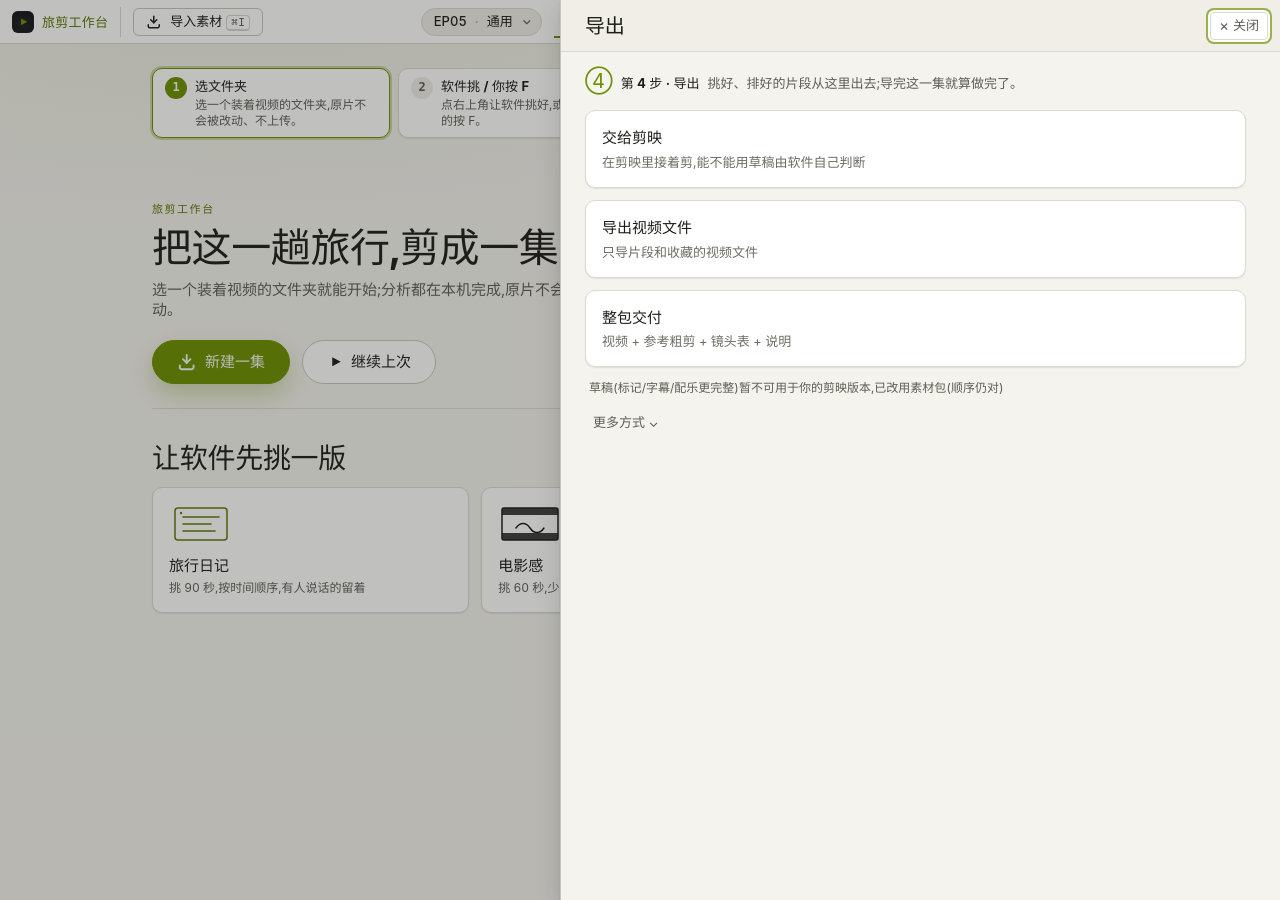
it: 交付抽屉 · 快速导出(R11 车道 E) › 第一次导出:没记过文件夹 → 弹一次文件夹面板(标题「选择导出文件夹」,不是交付包那句)→ quickExport(该目录) → 记进 ui.export.last_dir
This screenshot has width=1280, height=900.
Click the button "更多方式 ⌄".
click(626, 422)  # box [585,409,667,435]
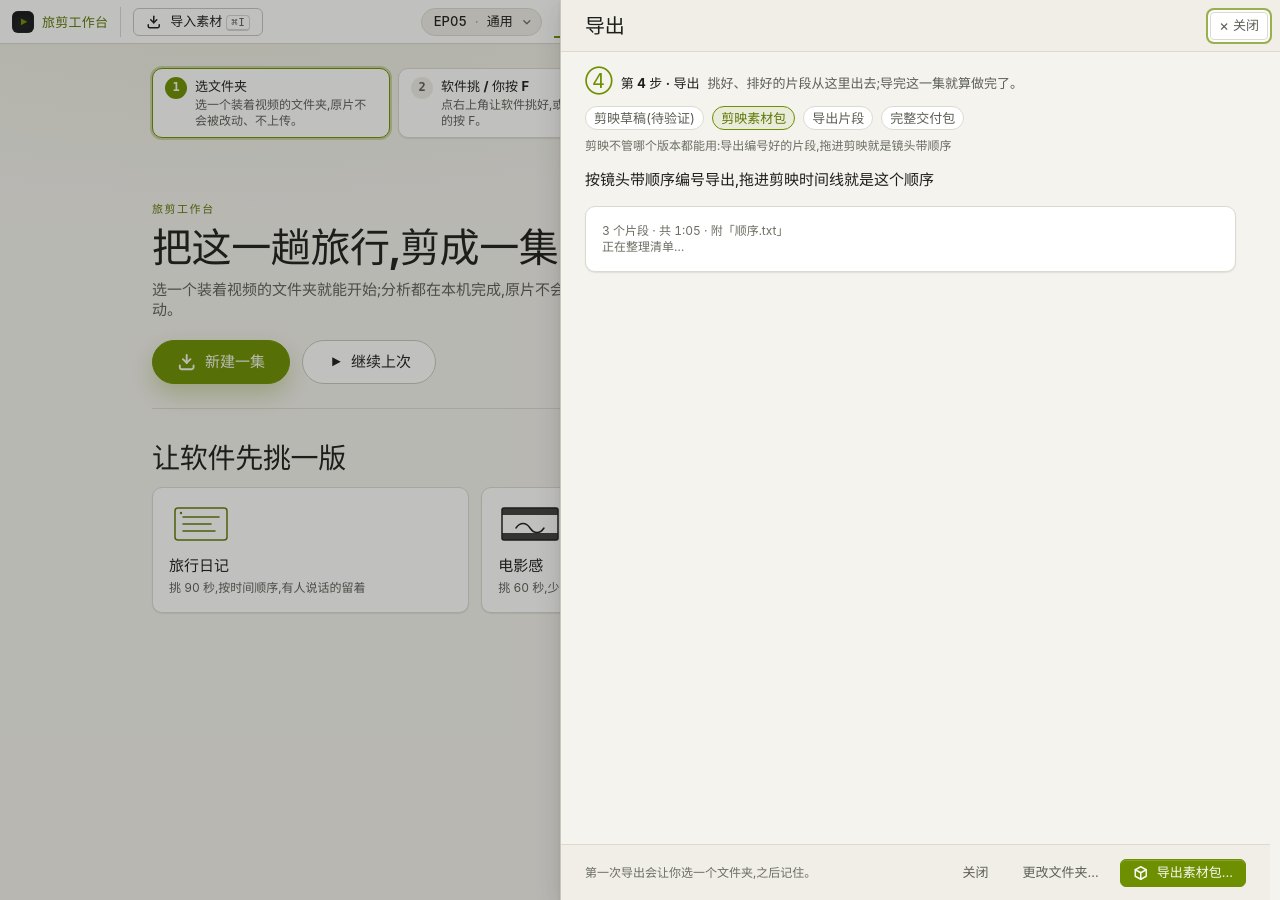
Click the button "导出片段".
click(838, 118)  # box [803,106,873,130]
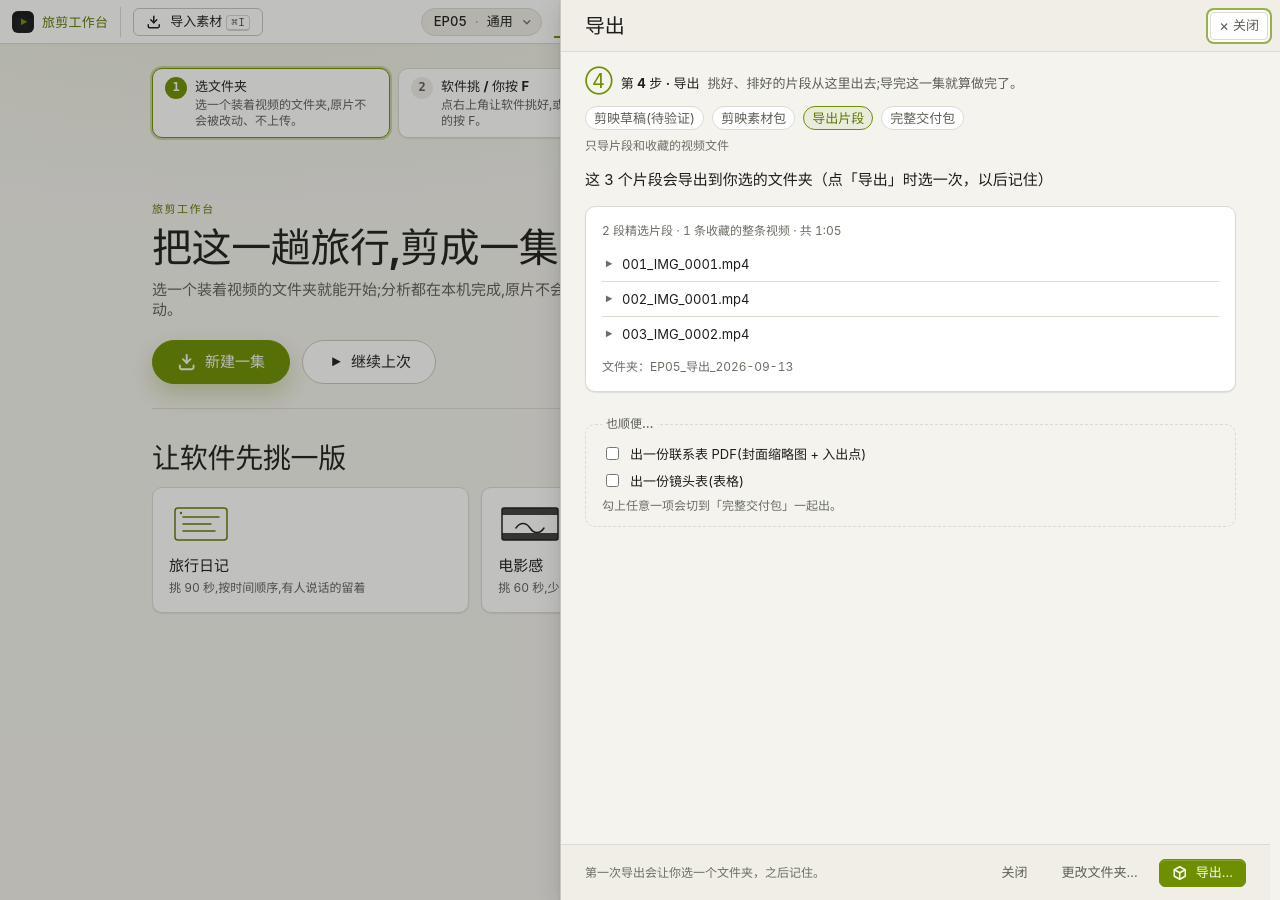
Expected: the text "001_IMG_0001.mp4" is shown, [622,255,750,273]
Click the button "导出…".
click(1202, 872)  # box [1159,858,1246,886]
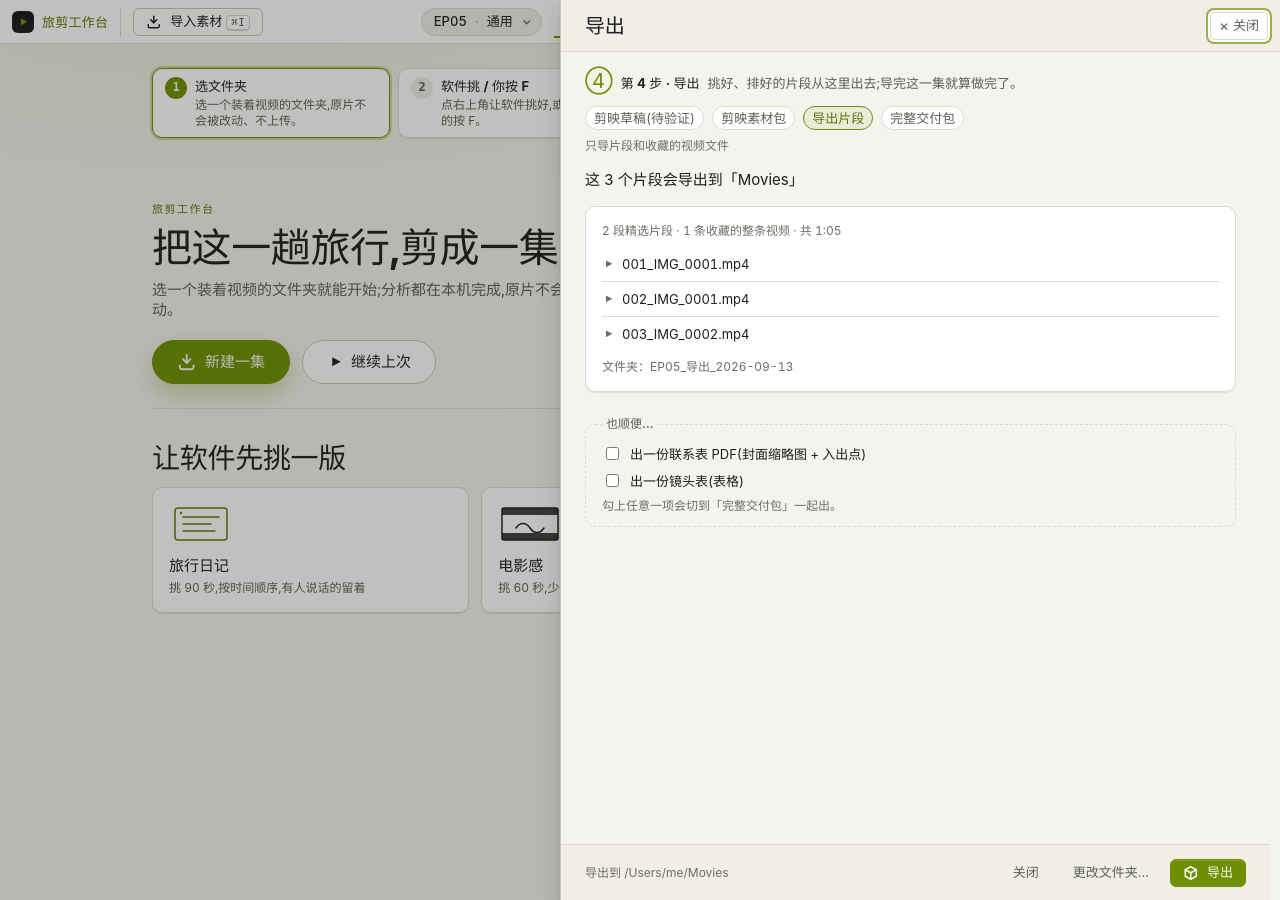
Expected: the button with aria-label "导出到上次文件夹" is shown, [1170,858,1246,886]
